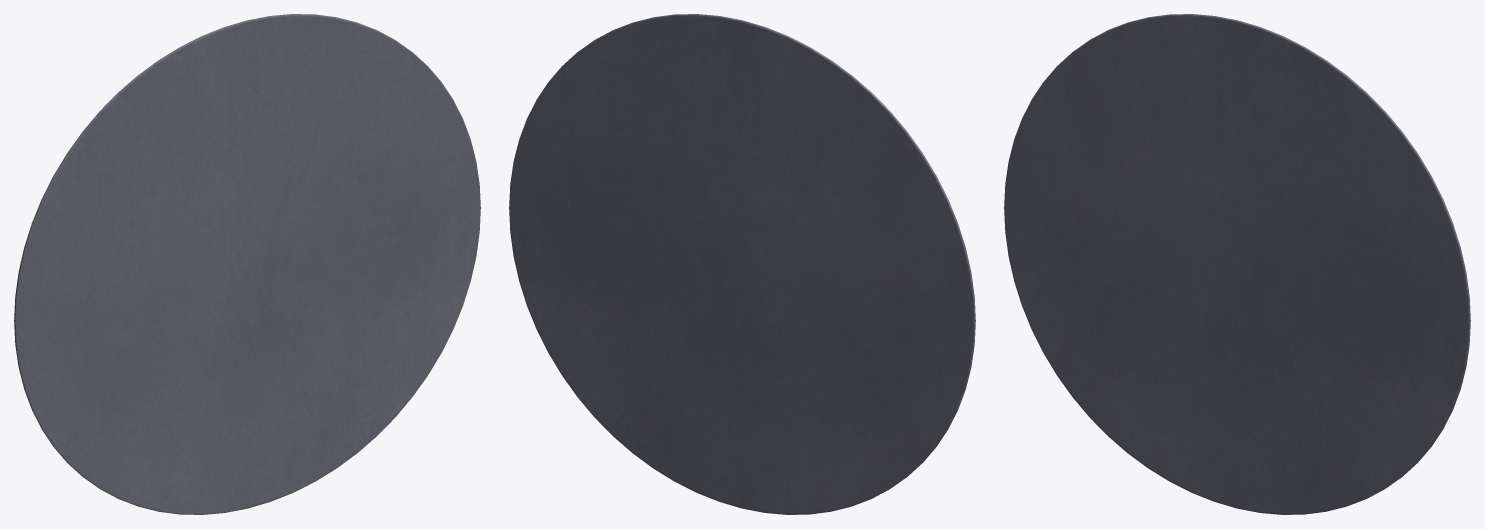
File: button_zenit27.fbx
3 views of the same model, side by side, from view 1: azimuth 30°, elevation 25°; view 2: azimuth 150°, elevation 25°; view 3: azimuth 330°, elevation 25° (orthographic).
Parts seen in each view (by area): view 1: button_zenit27; view 2: button_zenit27; view 3: button_zenit27.
Boxes of the visible parts, box(x1,y1,x2,y2) form: button_zenit27: box(14, 14, 480, 514); button_zenit27: box(509, 14, 975, 514); button_zenit27: box(1004, 14, 1470, 514).
Size of the model in its own units: 0.4 by 0.4 by 0.002.
Materials: 1 (1 with a texture image).
